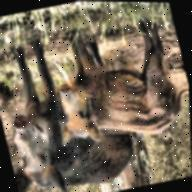boar: (0, 26, 142, 192), (34, 10, 191, 155)
